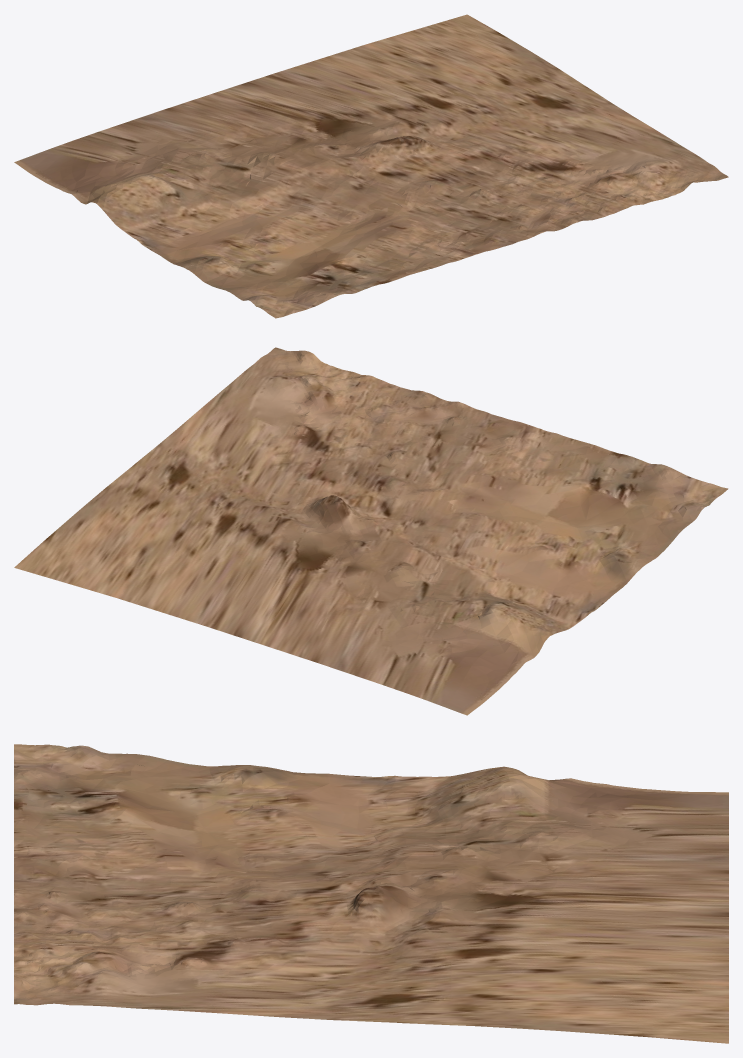
3 renders of one model, top to bottom at view 1: azimuth 30°, elevation 25°; view 2: azimuth 150°, elevation 25°; view 3: azimuth 270°, elevation 25°, orthographic. The views are drawn at different scales.
Bounding box in the file's own units: 4.18 × 0.616 × 4.18.
2 materials, 2 textured.
